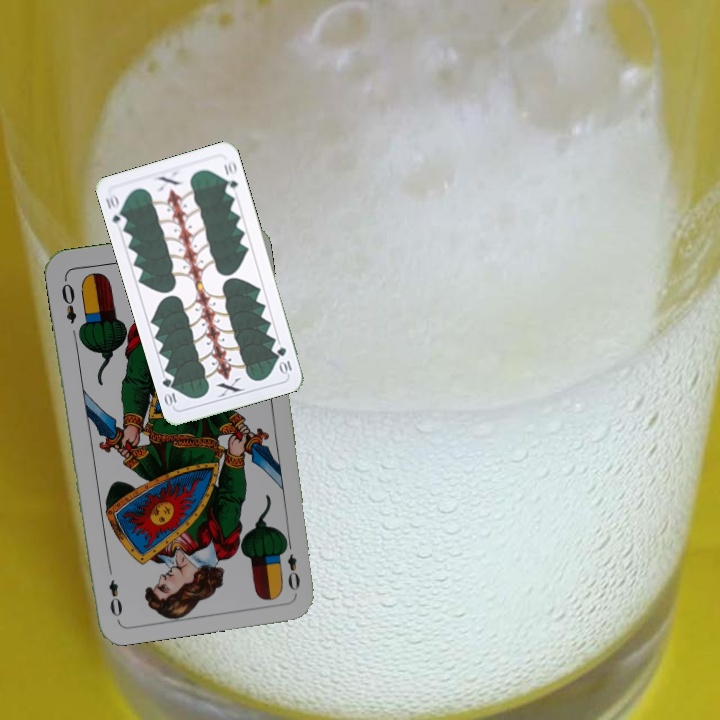EO: (279, 535, 303, 593), (57, 274, 79, 326)
G10: (102, 189, 129, 231), (273, 343, 294, 377)
